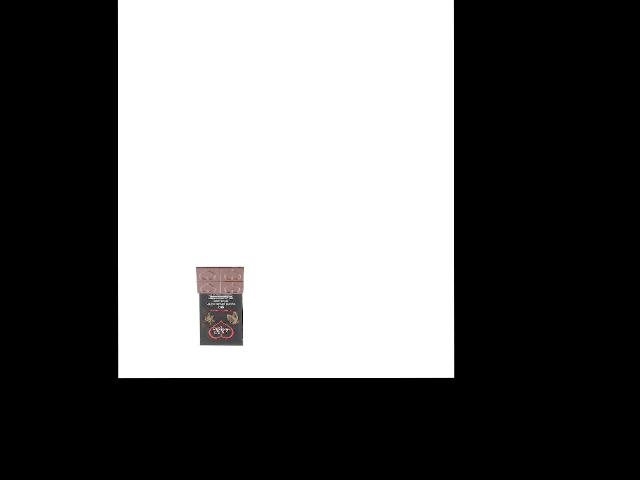chocolate: (192, 263, 245, 346)
